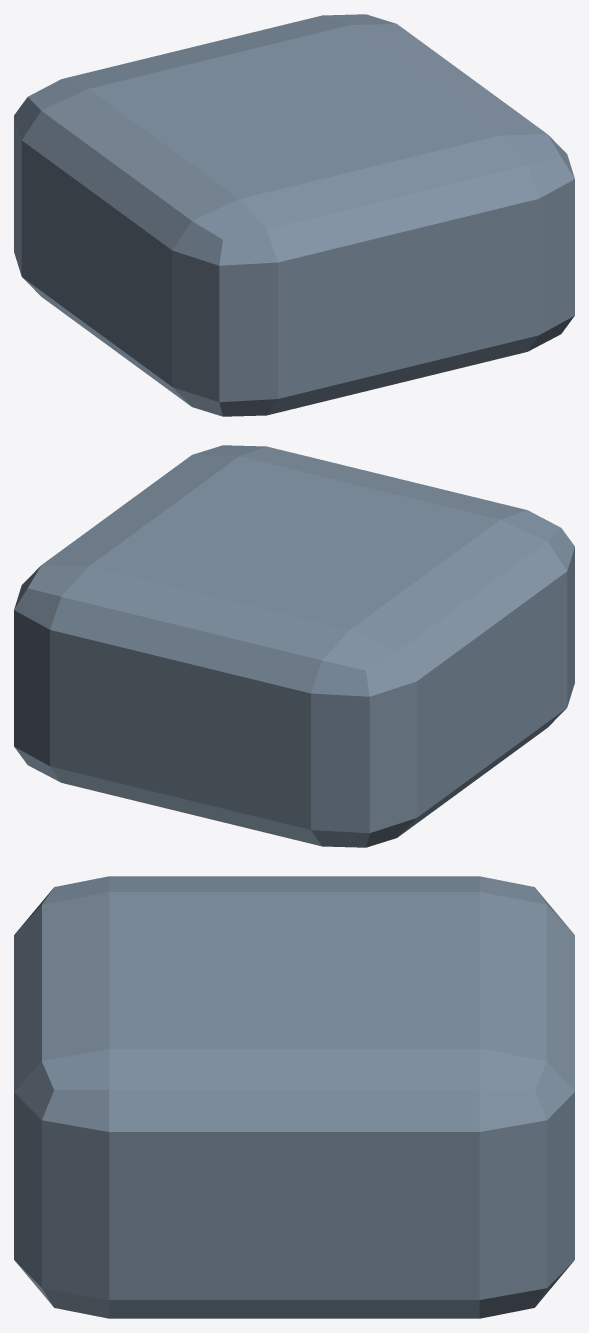
File: rockRoundNoTexture.fbx
The picture shows the model from 3 angles, top to bottom: view 1: azimuth 30°, elevation 25°; view 2: azimuth 150°, elevation 25°; view 3: azimuth 270°, elevation 25°; orthographic projection. The views are drawn at different scales.
Visible parts, largest first — view 1: Cube; view 2: Cube; view 3: Cube.
Boxes of the visible parts, <box> form: Cube: <box>14,14,574,416</box>; Cube: <box>14,445,574,847</box>; Cube: <box>14,876,574,1318</box>.
Size of the model in its own units: 200 by 100 by 200.
